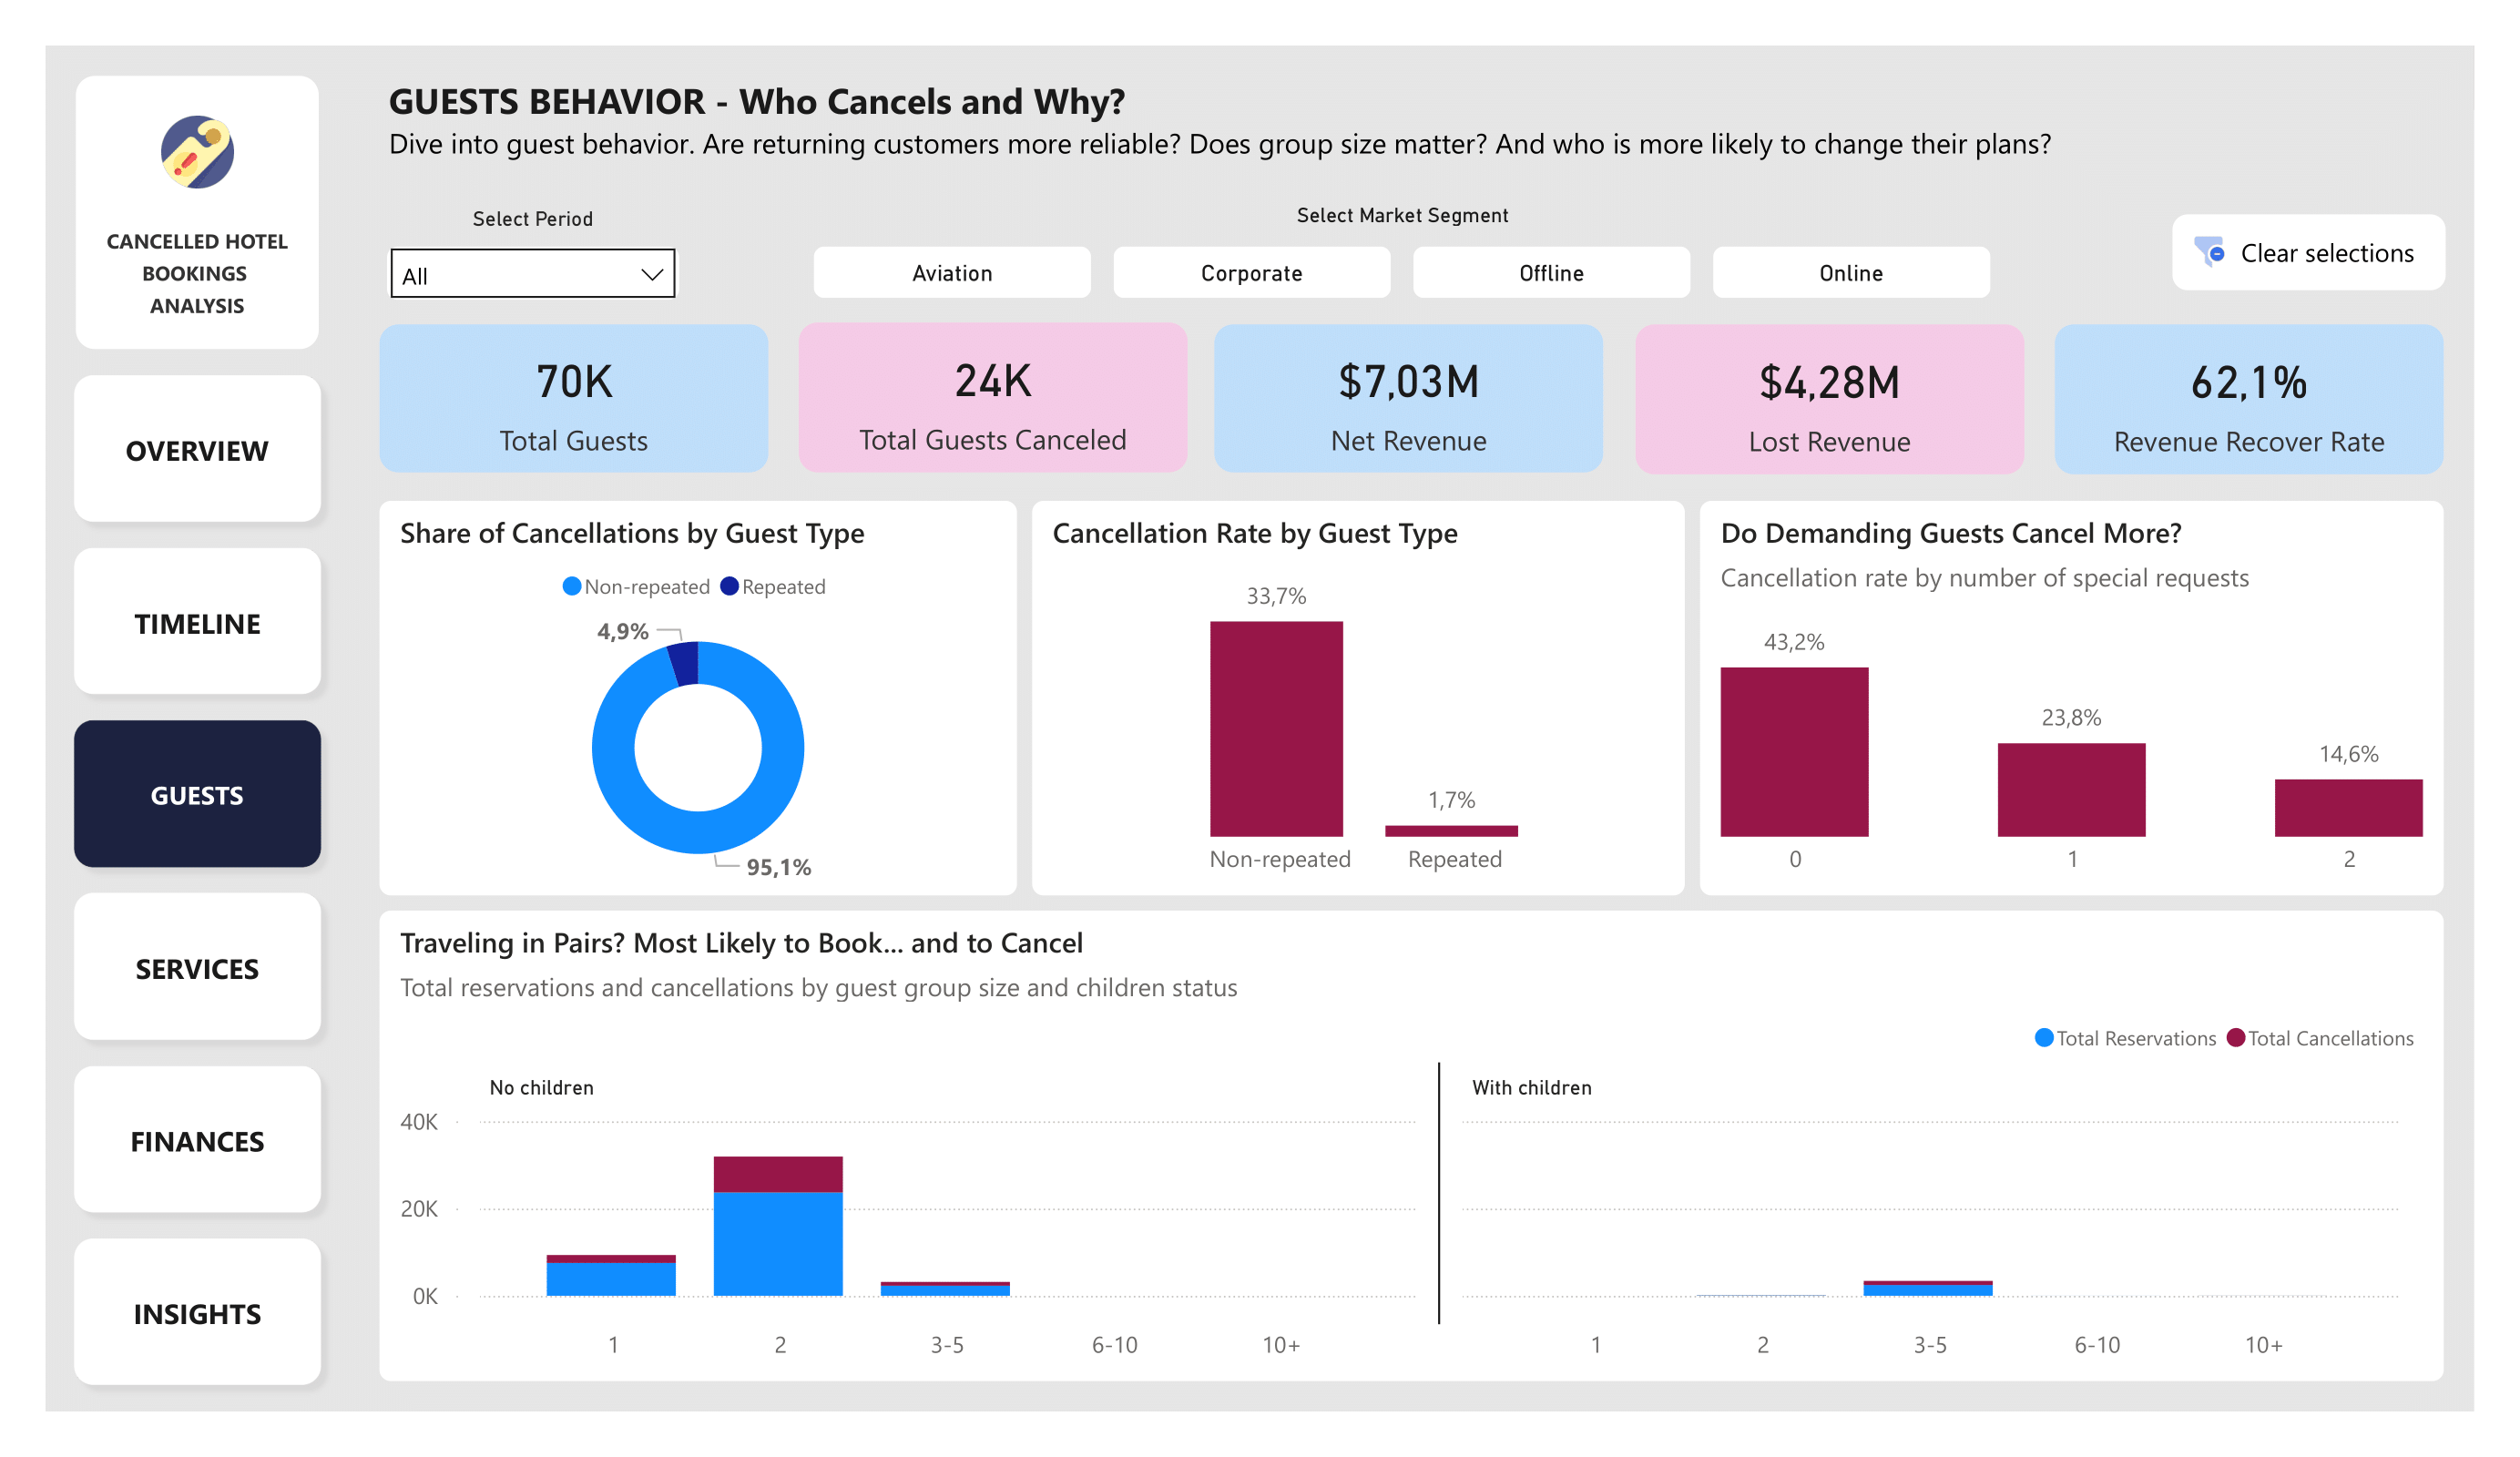

The page's visual inventory and layout, read from the dashboard file:
{"tool":"powerbi","page":{"name":"GUESTS","canvas":[1280,720],"ordinal":2},"visuals":[{"type":"textbox","box":[16,16,128,144],"z":0},{"type":"advancedSlicerVisual","title":"Select Market Segment","fields":{"Values":["Reservations.Market segment"]},"box":[399.9,73,631,64],"z":0,"group":"g1"},{"type":"shape","box":[180,106,154,28],"z":0,"group":"g4"},{"type":"card","fields":{"Values":["_Measures.Total Guests"]},"box":[176,147,205,78.2],"z":0,"group":"g3"},{"type":"slicer","title":" Select Period","fields":{"Values":["Calendar.Date.Variation.Date Hierarchy.Year","Calendar.Date.Variation.Date Hierarchy.Quarter","Calendar.Date.Variation.Date Hierarchy.Month"]},"box":[177,85,160,48],"z":1000,"group":"g4"},{"type":"card","fields":{"Values":["_Measures.Total Guests Canceled"]},"box":[396.6,146,205,78.9],"z":1000,"group":"g3"},{"type":"pageNavigator","box":[8.2,167.2,144.3,549.2],"z":1000},{"type":"image","box":[48,32,64,48],"z":2000},{"type":"group","id":"g1","title":"Group 3","box":[399.9,73,864.1,64],"z":2000,"group":"g5"},{"type":"group","id":"g2","title":"Group 2","box":[1119.5,89,144.5,40],"z":2000,"group":"g1"},{"type":"card","fields":{"Values":["_Measures.Total revenue"]},"box":[615.7,146.6,205,78.3],"z":2000,"group":"g3"},{"type":"group","id":"g3","title":"Group 1","box":[176,146,1088,80],"z":3000},{"type":"card","fields":{"Values":["_Measures.Lost revenue"]},"box":[838.2,147.1,205,78.9],"z":3000,"group":"g3"},{"type":"textbox","box":[175.7,6,1091.4,74.3],"z":4000},{"type":"card","fields":{"Values":["_Measures.Revenue recover rate"]},"box":[1059,147.1,205,78.9],"z":4000,"group":"g3"},{"type":"columnChart","title":"Traveling in Pairs? Most Likely to Book...  and to Cancel","fields":{"Y":["_Measures.Total Reservations","_Measures.Total Cancellations"],"Rows":["Reservations.Has children"],"Category":["Reservations.No of Guests Range"]},"box":[176,456,1088,248],"z":5000},{"type":"actionButton","box":[1120.1,89,143.9,40],"z":6000,"group":"g2"},{"type":"donutChart","title":"Share of Cancellations by Guest Type","fields":{"Y":["_Measures.Cancellation Rate"],"Category":["Reservations.Repeated Guest Status Name"]},"box":[176,240,336,208],"z":6000},{"type":"columnChart","title":"Do Demanding Guests Cancel More?","fields":{"Category":["Reservations.No of Special Requests"],"Y":["_Measures.Cancellation Rate"]},"box":[872,240,392,208],"z":7000},{"type":"columnChart","title":"Cancellation Rate by Guest Type","fields":{"Y":["_Measures.Cancellation Rate"],"Category":["Reservations.Repeated Guest Status Name"]},"box":[520,240,344,208],"z":8000},{"type":"group","id":"g4","title":"Group 4","box":[177,85,160,49],"z":8001,"group":"g5"},{"type":"group","id":"g5","title":"Group 6","box":[177,73,1087,64],"z":9000},{"type":"image","box":[1119.5,93,40,32],"z":11000,"group":"g2"}]}

Visuals, with their boxes on the page's 1280x720 design canvas (x1, y1, x2, y2). These are canvas units, not pixel positions in the 2520x1457 screenshot, which may show the page scaled, cropped or inside an application window:
textbox: (left=16, top=16, right=144, bottom=160)
"Select Market Segment" advancedSlicerVisual: (left=400, top=73, right=1031, bottom=137)
shape: (left=180, top=106, right=334, bottom=134)
card - _Measures.Total Guests: (left=176, top=147, right=381, bottom=225)
" Select Period" slicer: (left=177, top=85, right=337, bottom=133)
card - _Measures.Total Guests Canceled: (left=397, top=146, right=602, bottom=225)
pageNavigator: (left=8, top=167, right=152, bottom=716)
image: (left=48, top=32, right=112, bottom=80)
"Group 3" group: (left=400, top=73, right=1264, bottom=137)
"Group 2" group: (left=1120, top=89, right=1264, bottom=129)
card - _Measures.Total revenue: (left=616, top=147, right=821, bottom=225)
"Group 1" group: (left=176, top=146, right=1264, bottom=226)
card - _Measures.Lost revenue: (left=838, top=147, right=1043, bottom=226)
textbox: (left=176, top=6, right=1267, bottom=80)
card - _Measures.Revenue recover rate: (left=1059, top=147, right=1264, bottom=226)
"Traveling in Pairs? Most Likely to Book...  and to Cancel" columnChart: (left=176, top=456, right=1264, bottom=704)
actionButton: (left=1120, top=89, right=1264, bottom=129)
"Share of Cancellations by Guest Type" donutChart: (left=176, top=240, right=512, bottom=448)
"Do Demanding Guests Cancel More?" columnChart: (left=872, top=240, right=1264, bottom=448)
"Cancellation Rate by Guest Type" columnChart: (left=520, top=240, right=864, bottom=448)
"Group 4" group: (left=177, top=85, right=337, bottom=134)
"Group 6" group: (left=177, top=73, right=1264, bottom=137)
image: (left=1120, top=93, right=1160, bottom=125)
